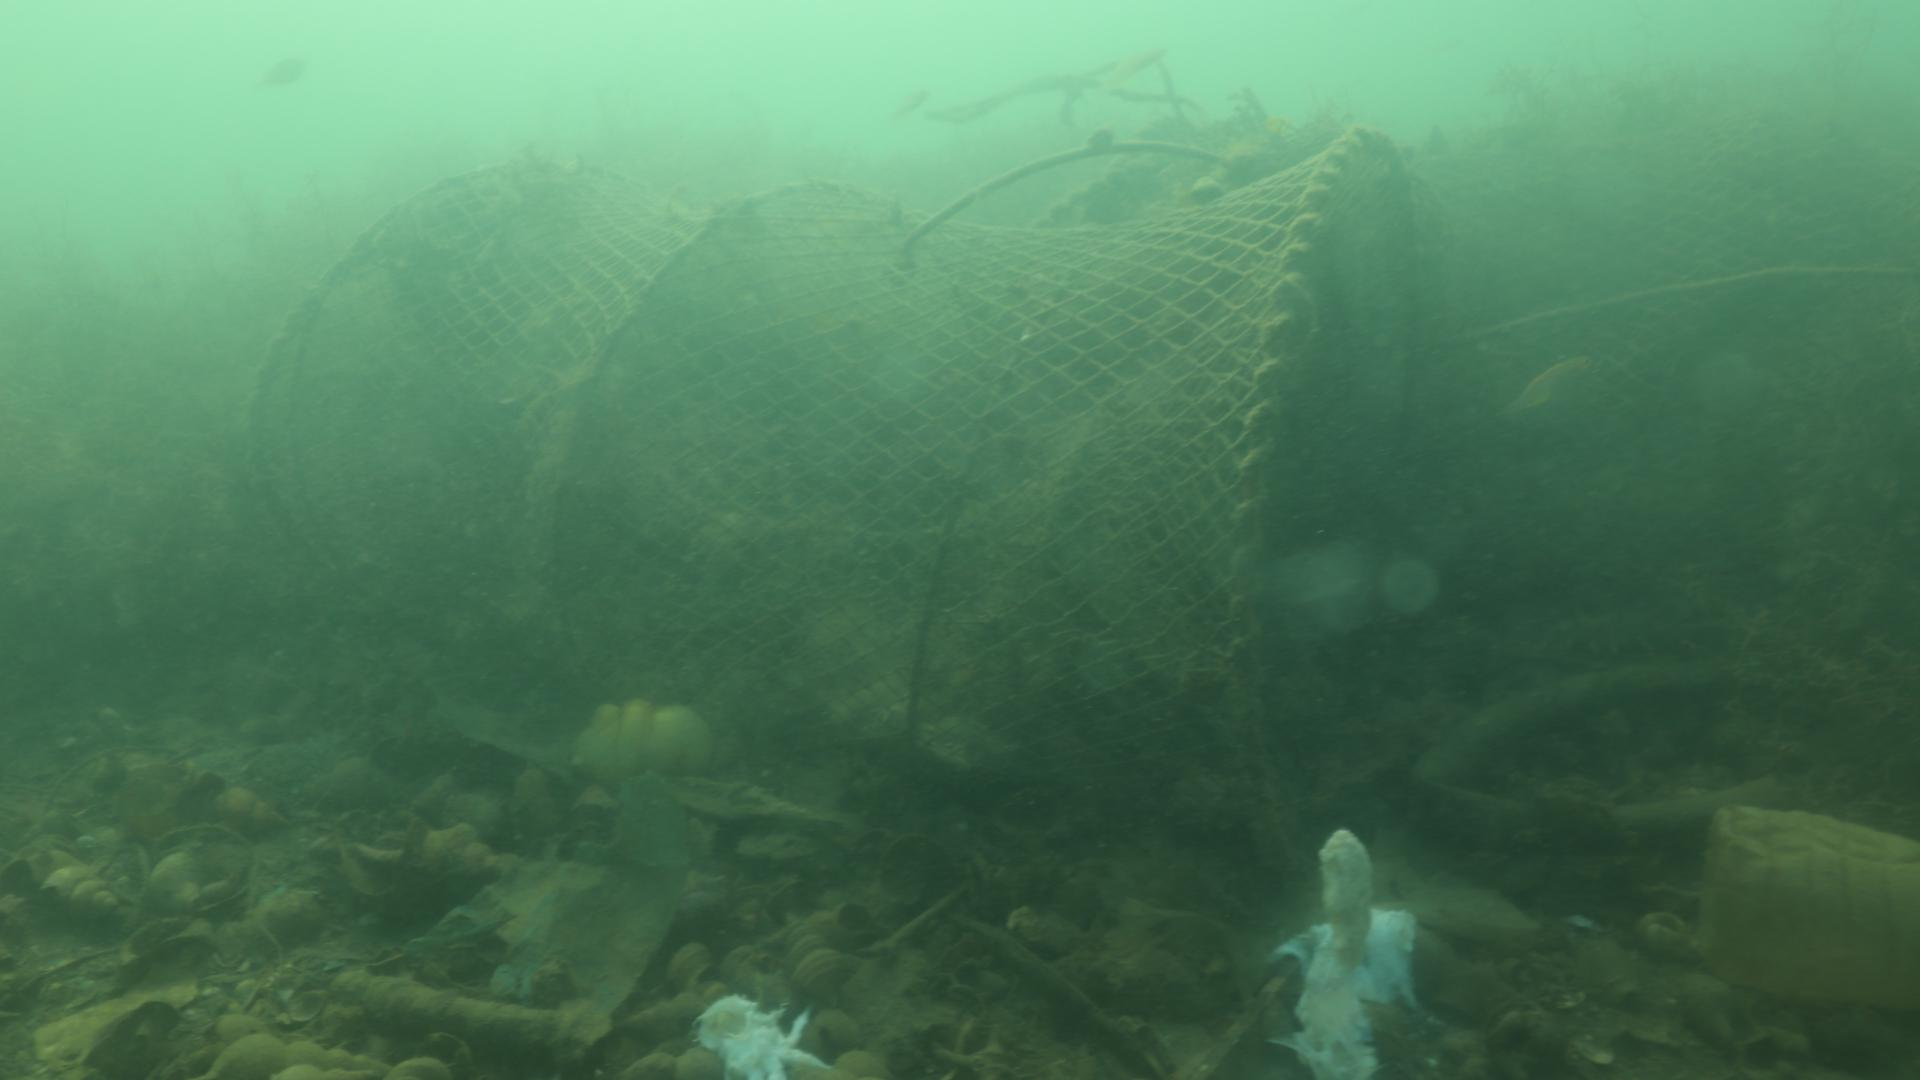spring fish trap: (245, 123, 1419, 877)
